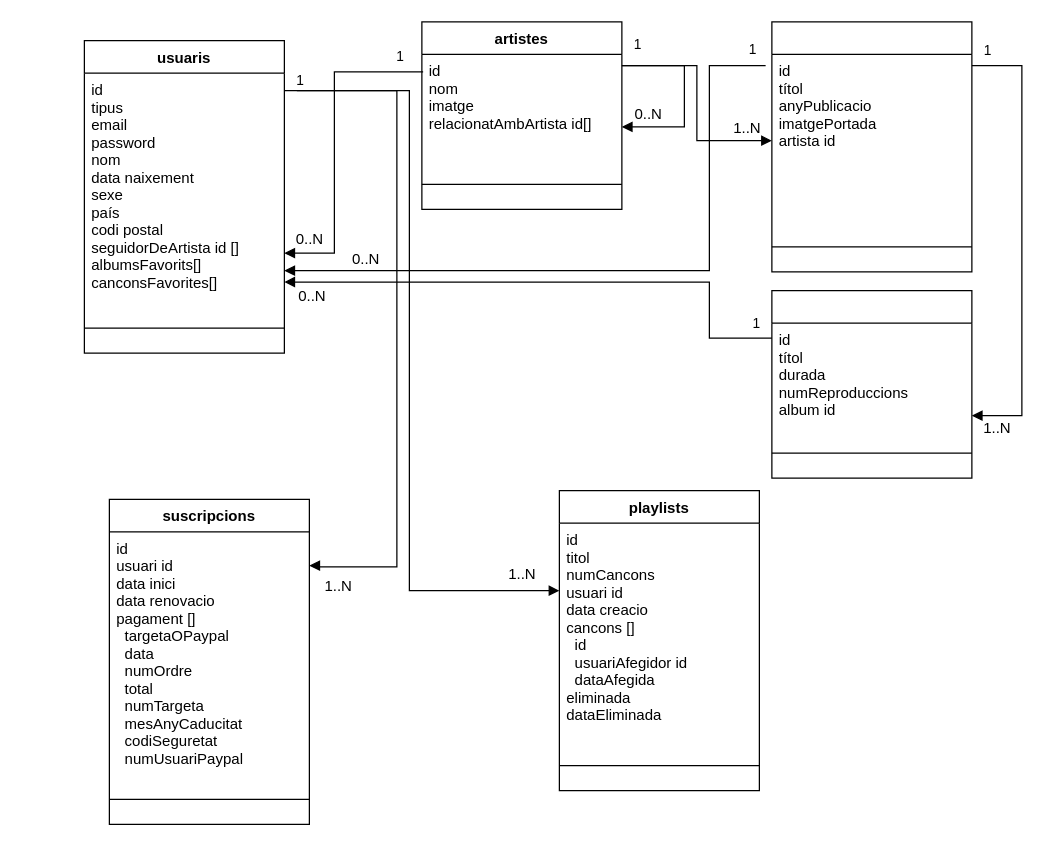
This 1054x846 diagram has some shape labels left out. The box of each missing label's shape, as (x1, y1, x2, y2) in pixels:
albums: (771, 21, 972, 272)
cancons: (771, 289, 972, 478)
